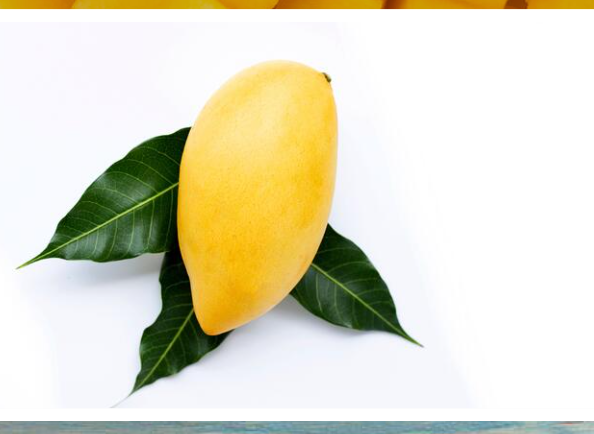mango: (176, 60, 339, 338)
